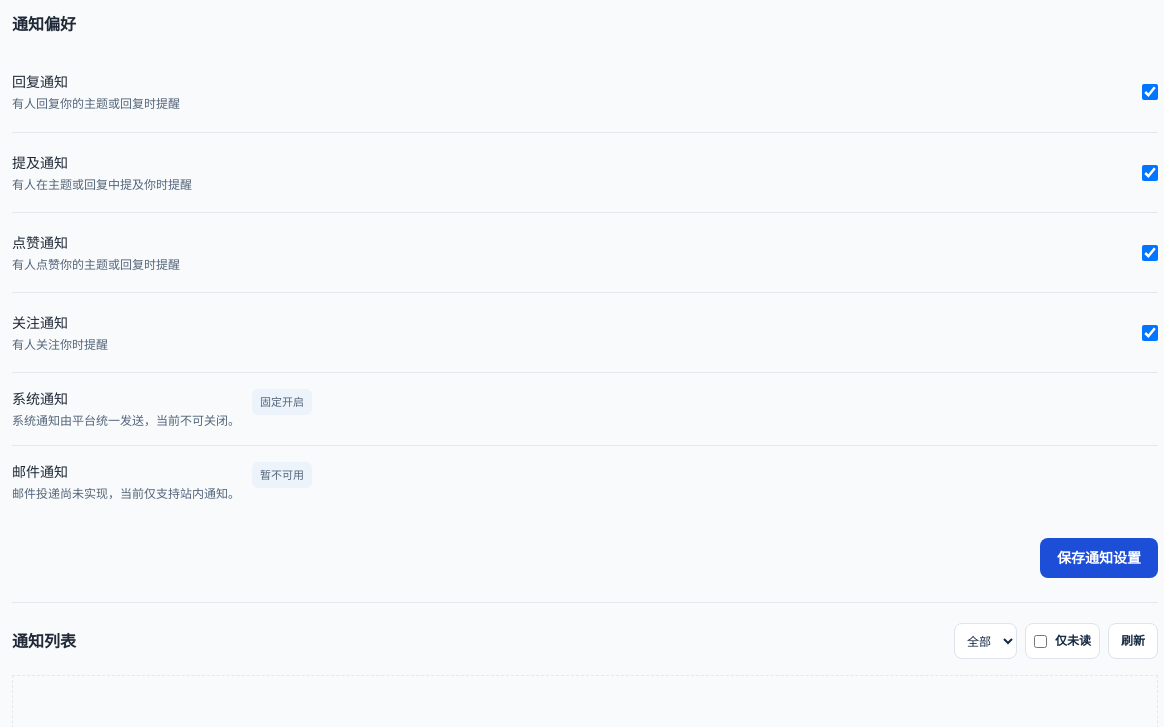
Scenario: SettingsNotificationsTab › does not let an old-account save response overwrite current preferences
The width and height of the screenshot is (1164, 727).
Click the checkbox with id "notification-preference-reply" at (1150, 92), box [1142,84,1158,100]
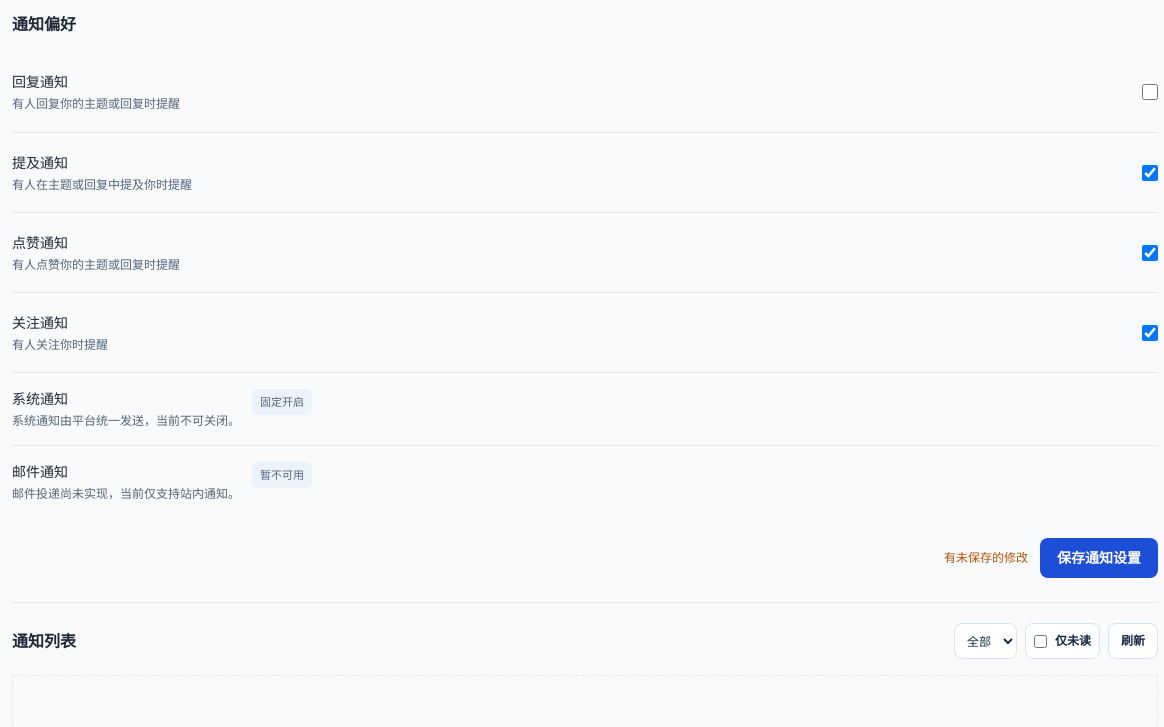
Click the button "保存通知设置" at (1099, 558), box [1040,538,1158,578]
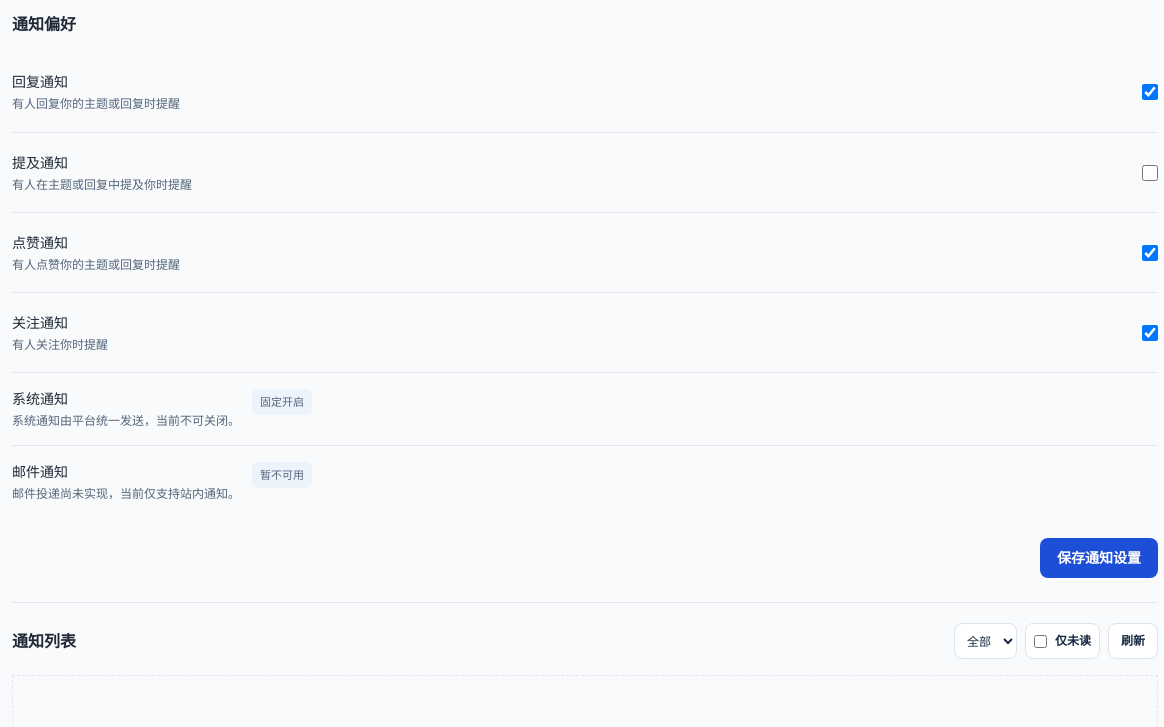
Expected: the checkbox with id "notification-preference-reply" is checked, [1142,84,1158,100]
Expected: the checkbox with id "notification-preference-mention" is not checked, [1142,164,1158,180]
